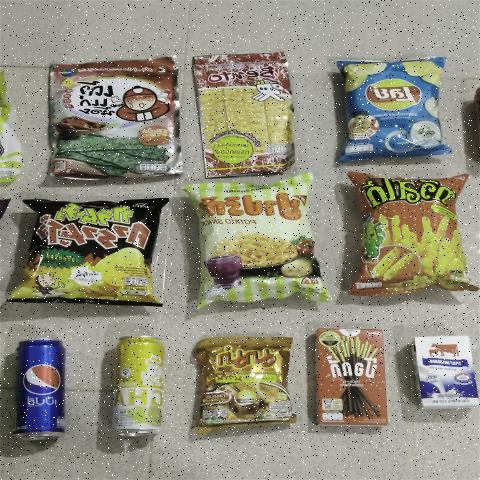bento_red: (194, 51, 287, 180)
karamujo: (35, 197, 157, 296)
lay_blue: (350, 62, 440, 153)
mama: (207, 340, 297, 428)
paprika: (195, 181, 313, 307)
pepsi_blue: (10, 335, 70, 441)
singha_yellow: (104, 330, 164, 430)
taokaenoi: (47, 58, 175, 184)
thai_denmark: (411, 334, 479, 408)
twisco: (361, 182, 457, 282)
